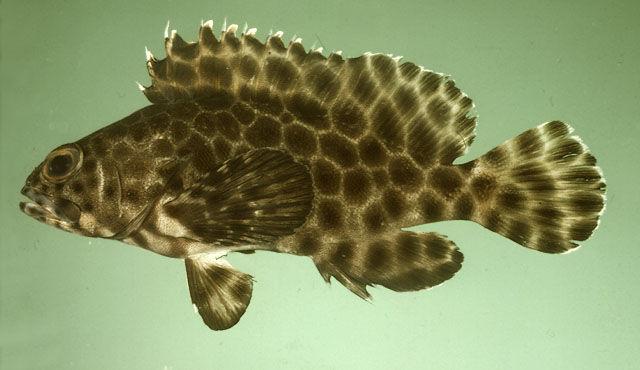fish: (17, 16, 607, 332)
